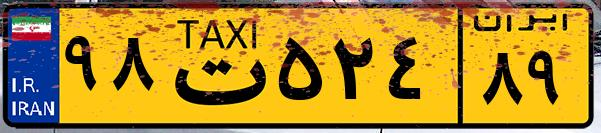2: (330, 28, 385, 110)
4: (385, 28, 445, 110)
5: (270, 28, 330, 110)
8: (475, 38, 525, 113), (110, 28, 158, 98)
9: (57, 26, 110, 100), (525, 38, 570, 115)
ت: (158, 12, 270, 120)
